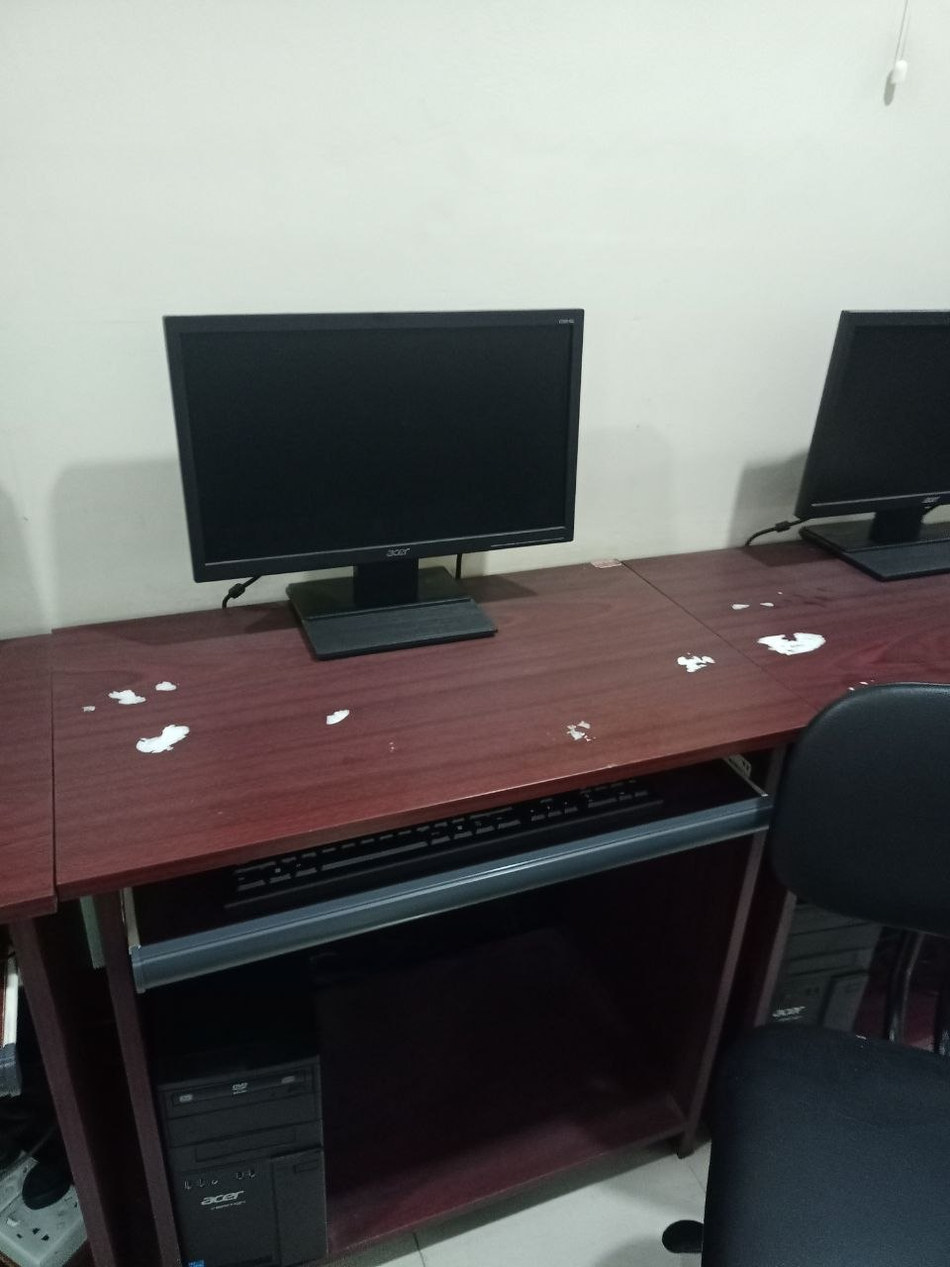computer monitor: (165, 310, 582, 656), (796, 311, 949, 578)
